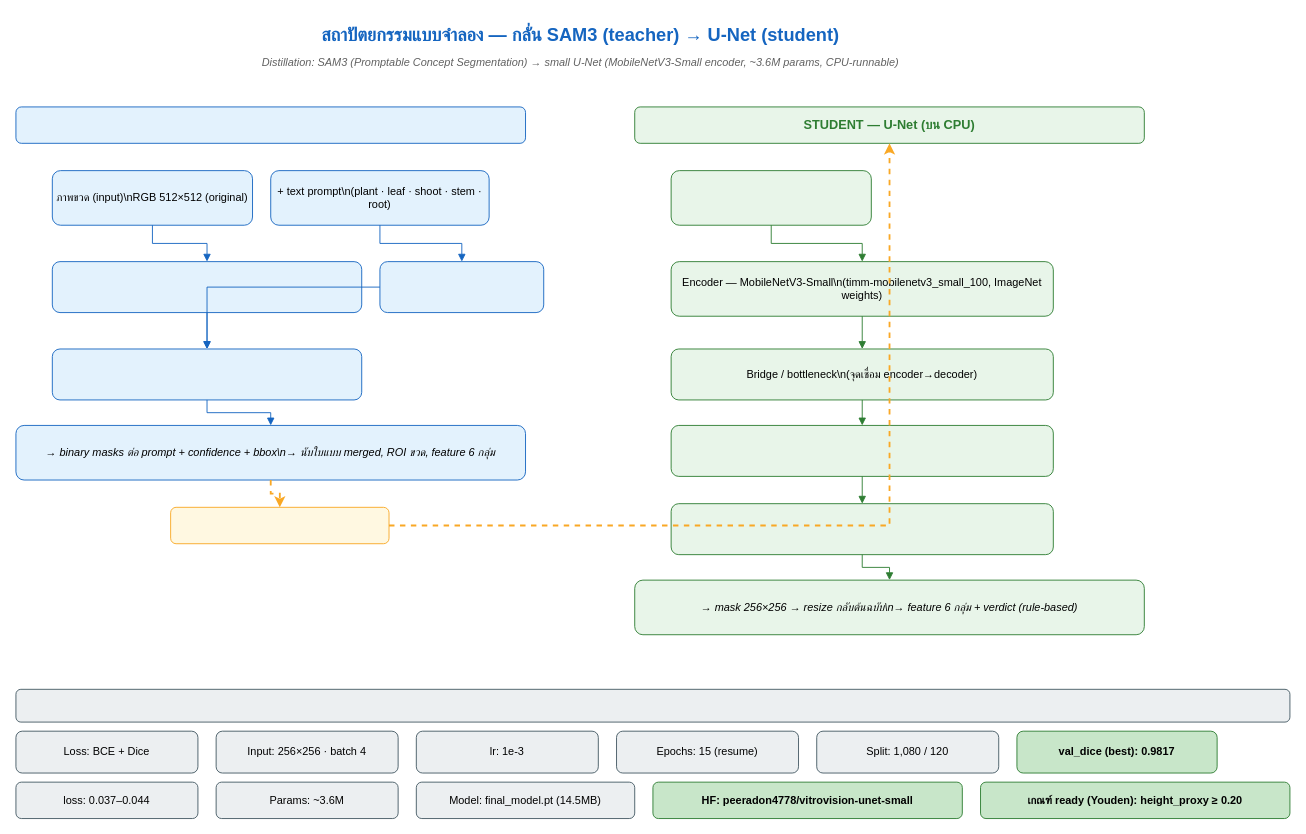
This 1306x834 diagram has some shape labels left out. The shapes that lost their labels are listed below. From the top down, each one's box as (x1, y1, x2, y2) in pixels, then its label:
(15, 106, 526, 143): TEACHER (บน GPU)
(670, 170, 871, 225): ภาพขวด (input)\nRGB 256×256 (resize)
(51, 261, 362, 313): SAM3 Encoder\n(ViT-H image encoder · 0.9B)
(379, 261, 544, 313): Prompt Encoder\n(ข้อความ → embedding)
(51, 348, 362, 400): Mask Decoder\n(concept-aware, หลาย instance)
(670, 425, 1053, 476): Decoder — U-Net (skip connections)
(170, 506, 389, 544): → pseudo-labels (mask ฝึก)
(670, 503, 1053, 555): Head — 1×1 conv + sigmoid\n→ binary mask (1 channel)
(15, 688, 1290, 722): พารามิเตอร์การฝึก (Distillation)
